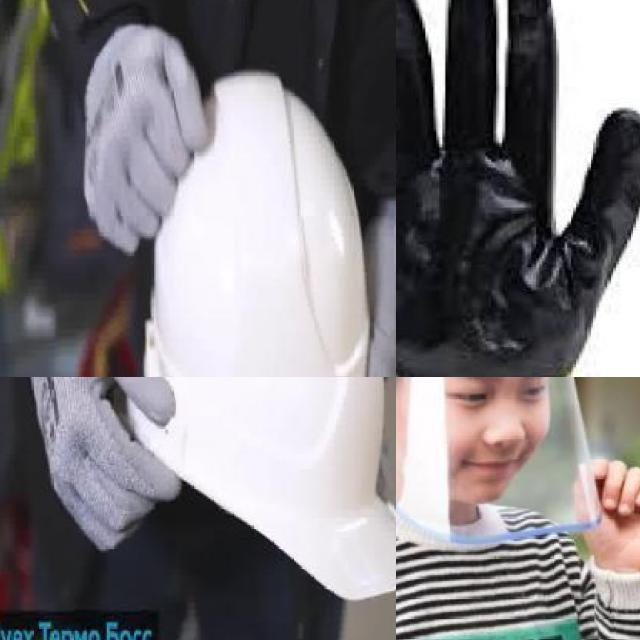apron: (396, 0, 640, 377), (80, 18, 212, 258), (23, 377, 183, 562), (361, 198, 396, 377)
